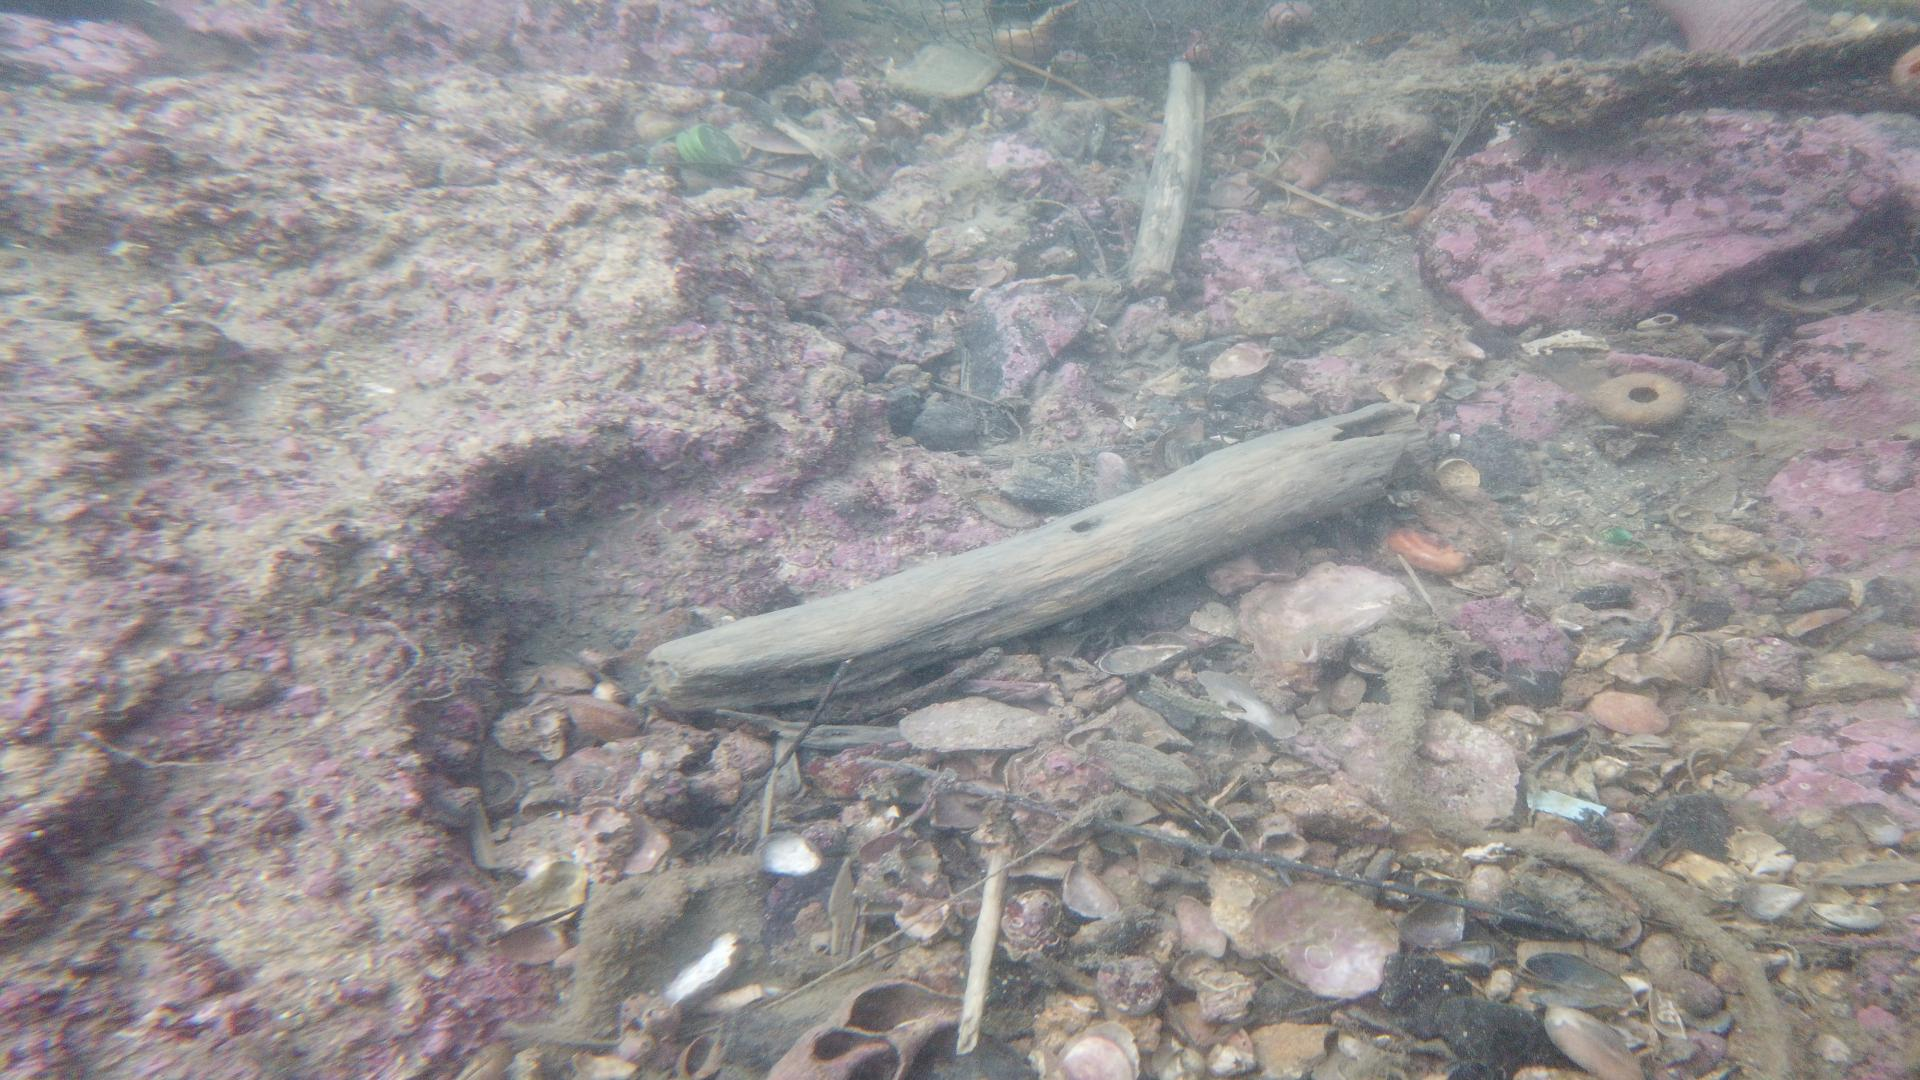fish net: (873, 0, 1665, 92)
rope: (1379, 673, 1803, 1080)
wood: (632, 400, 1433, 711), (1124, 58, 1208, 295)
